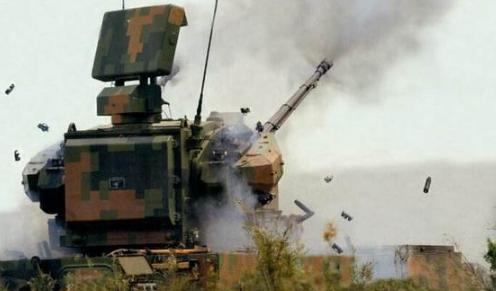MIL_SPG: (22, 5, 331, 252)
